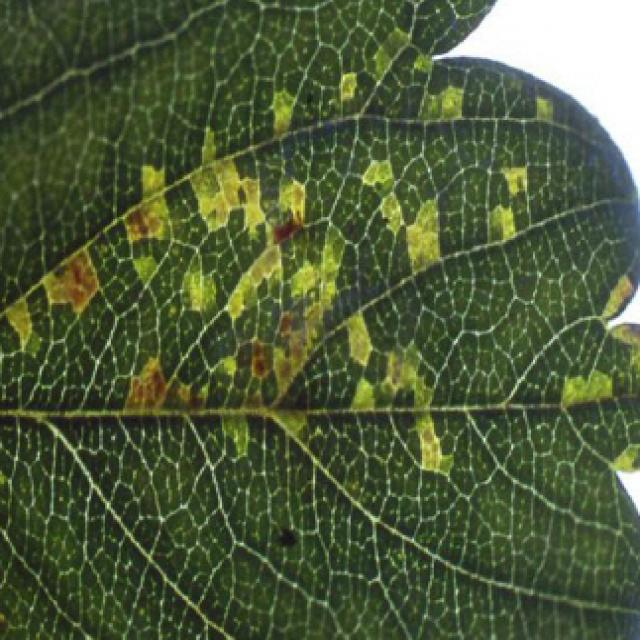Angular Leafspot: (0, 19, 640, 518)
